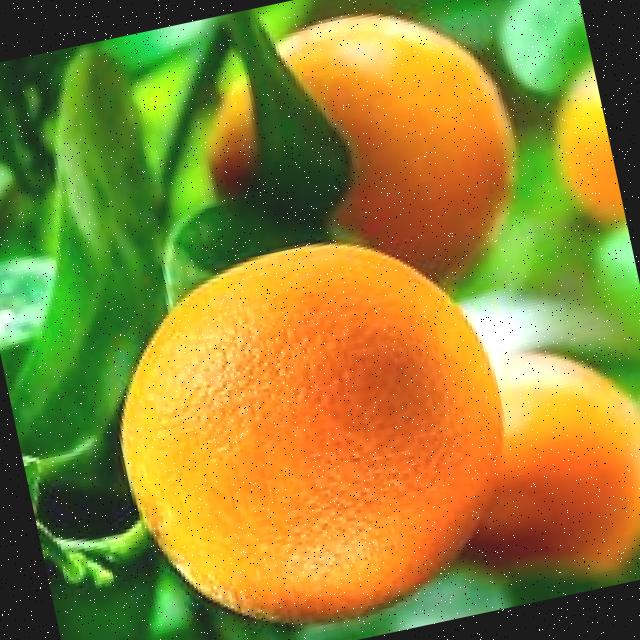orange: (82, 207, 539, 640)
